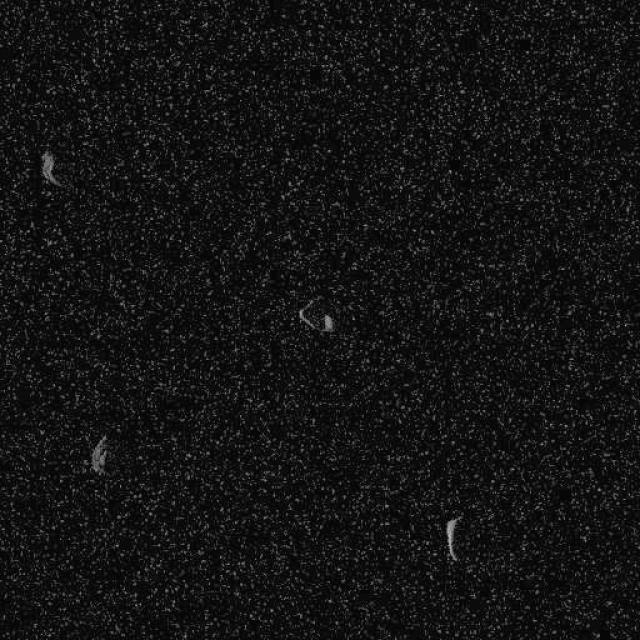D2: (296, 296, 335, 334), (38, 148, 62, 188), (89, 434, 110, 475), (444, 515, 460, 561)
